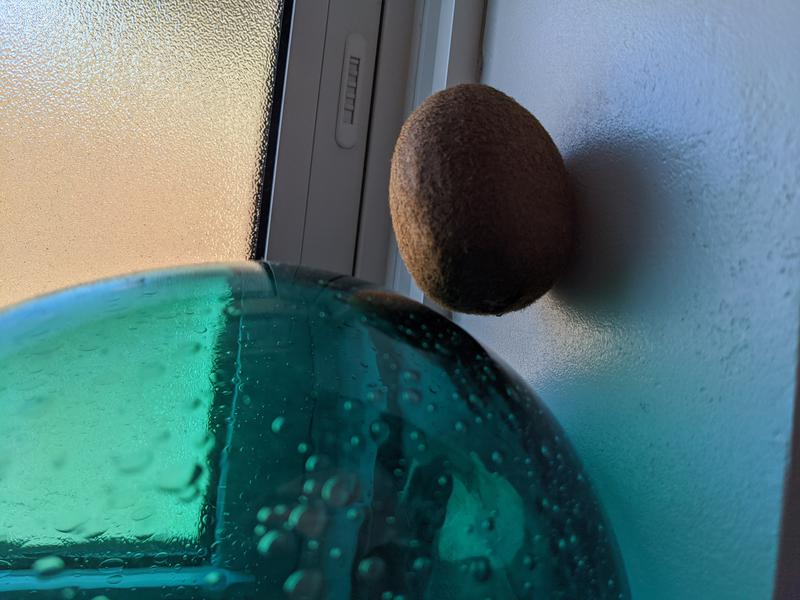kiwi: (386, 80, 577, 317)
